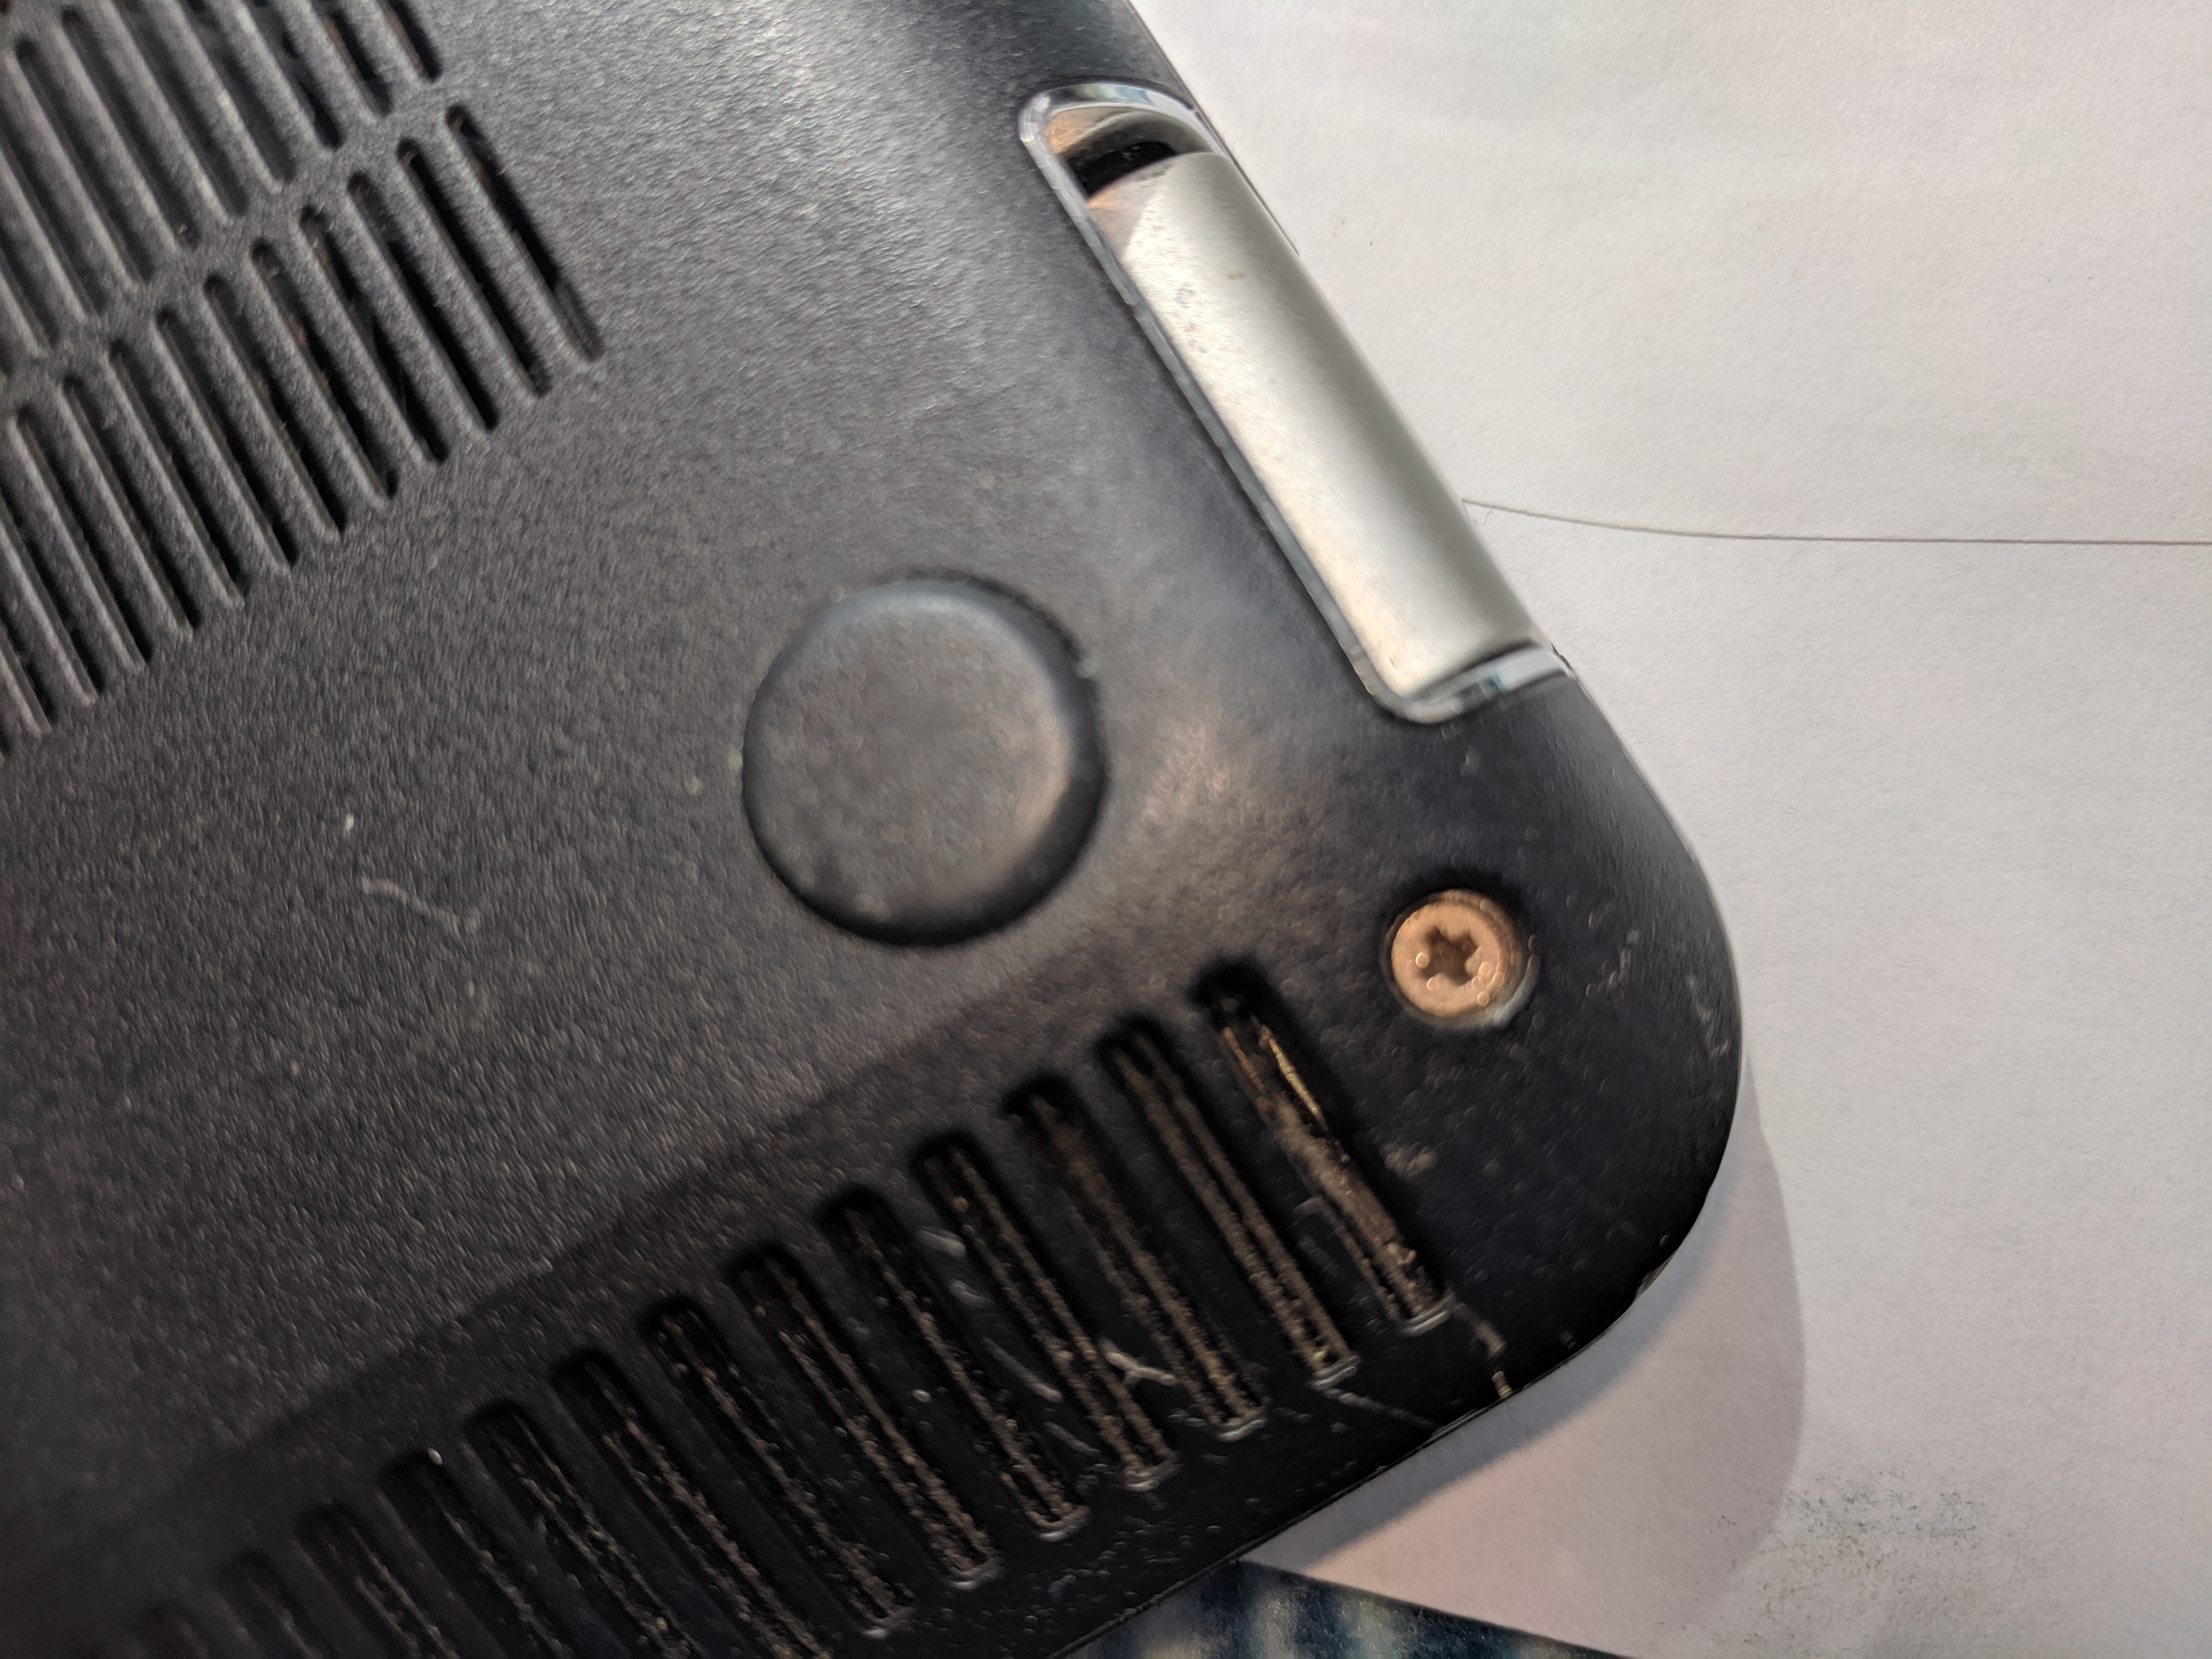cross_recessed_screw: (1366, 861, 1527, 1021)
